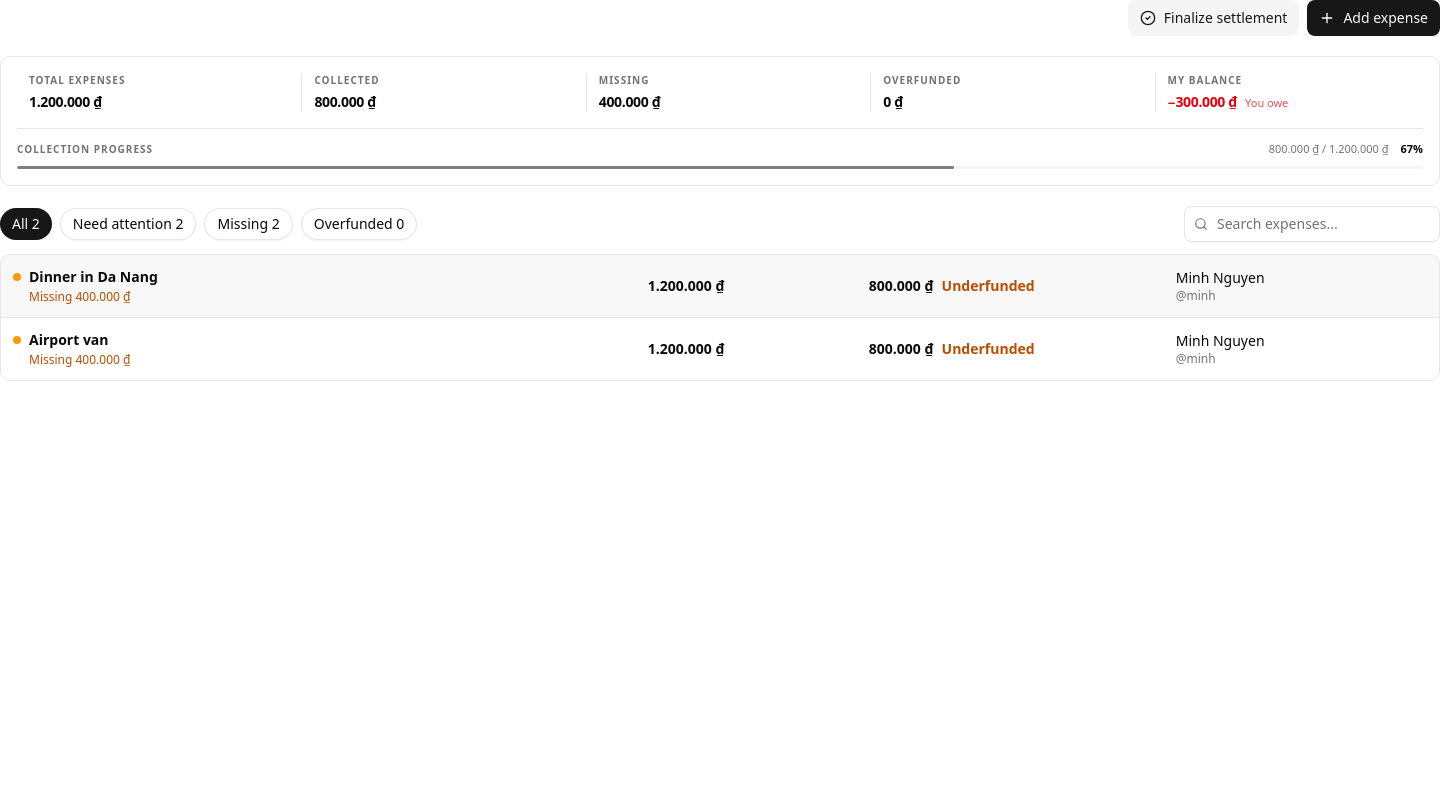
Test case: ExpensesTab › does not render stale detail participants under another selected expense
Step 1. Click the button "Dinner in Da Nang" → (720,286), box [1,254,1439,318]
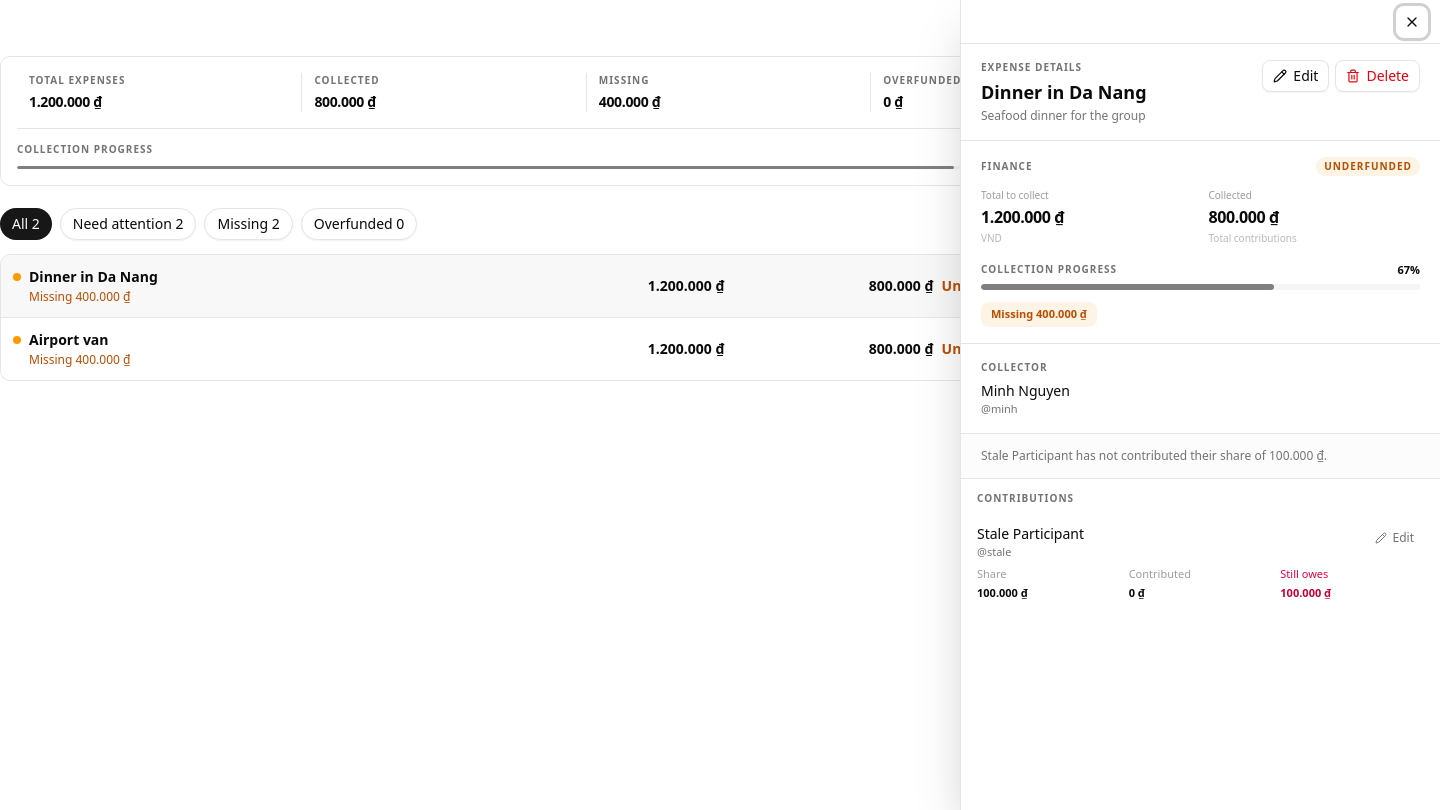
Result: the text "Stale Participant" is shown at [977,524,1084,544]
Step 2. Click the button "Airport van" → (720,348), box [1,318,1439,380]
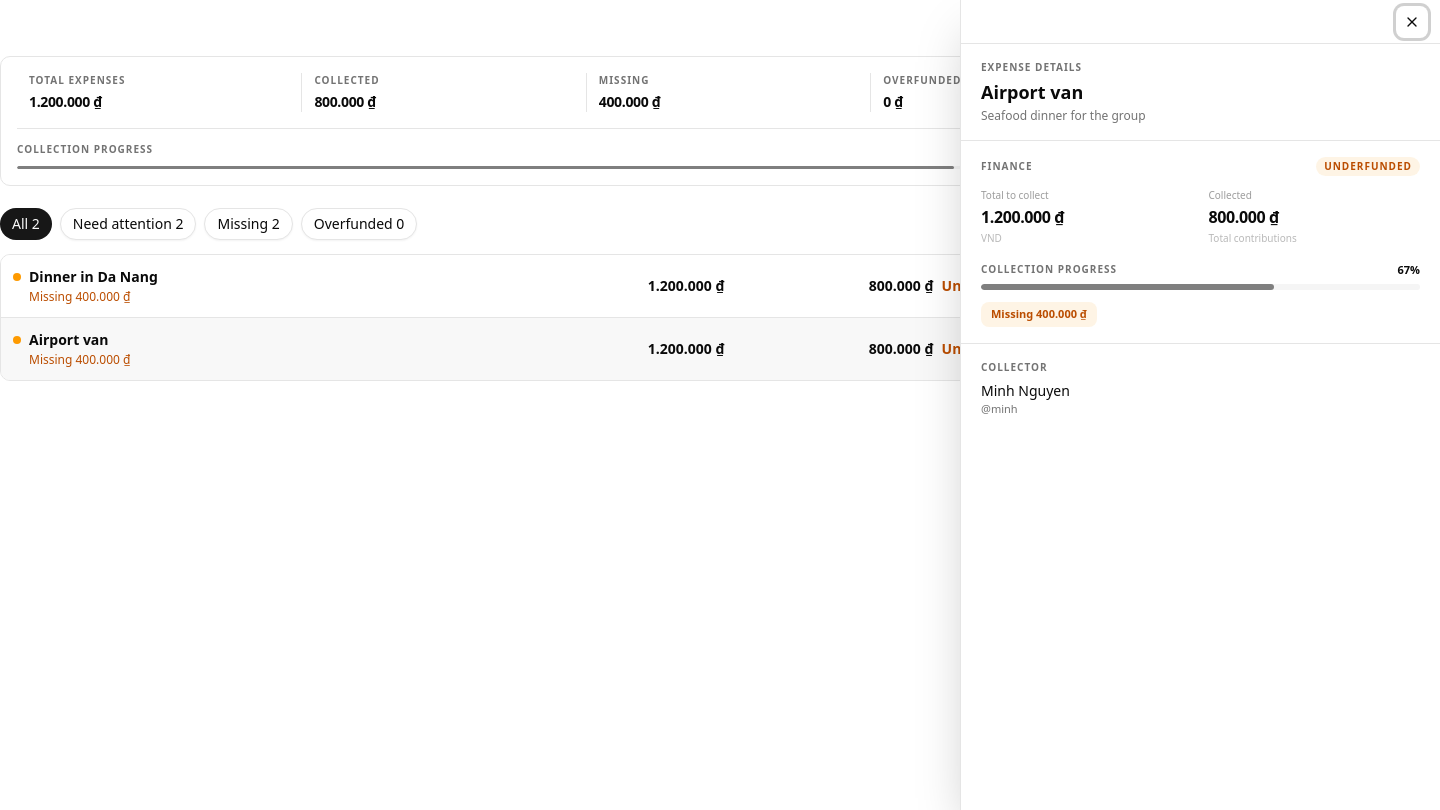
Result: the text "Stale Participant" is gone
